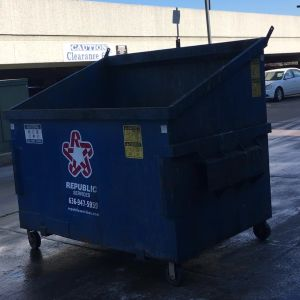Dumpster: (2, 24, 281, 288)
